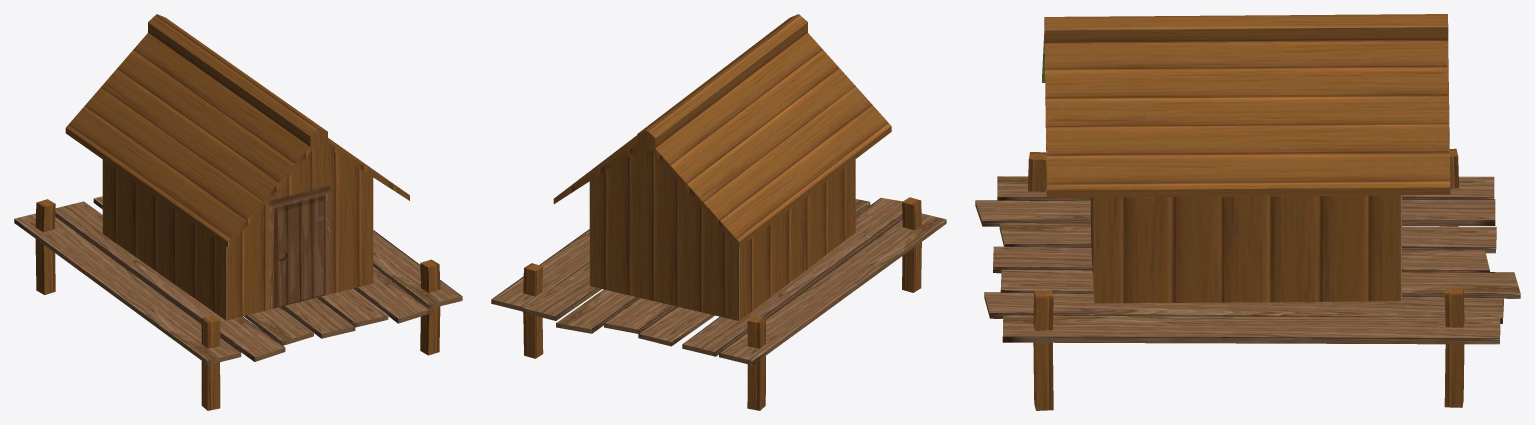
Rendered from decorLarge-harbor-48.glb.
3 renders of one model, left to right at view 1: azimuth 30°, elevation 25°; view 2: azimuth 150°, elevation 25°; view 3: azimuth 270°, elevation 25°, orthographic. The views are drawn at different scales.
Visible parts, largest first — view 1: piece; view 2: piece; view 3: piece.
Part boxes in pixels (bbox=[...]): piece: bbox=[14, 14, 462, 410]; piece: bbox=[491, 14, 946, 410]; piece: bbox=[975, 14, 1520, 410].
Size of the model in its own units: 3.79 by 3.48 by 5.37.
Materials: 1 (1 with a texture image).
